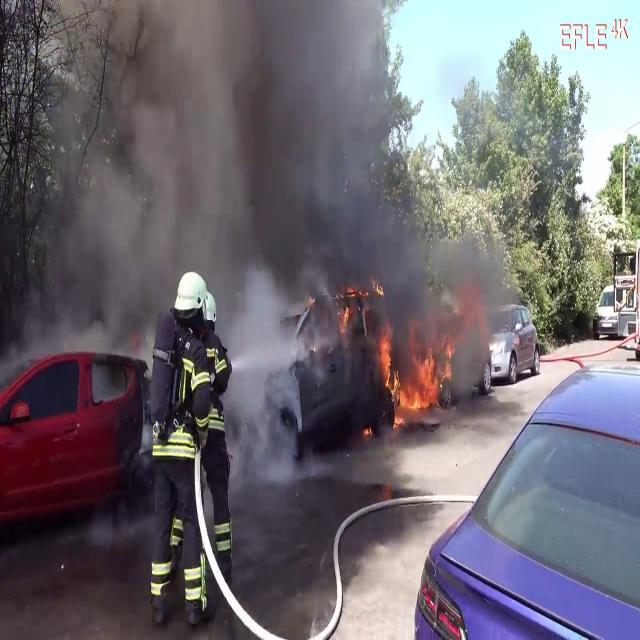Fire: (377, 325, 457, 427)
Smoke: (6, 0, 427, 353), (390, 214, 510, 378)
